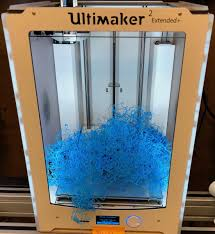fail: (37, 102, 176, 222)
